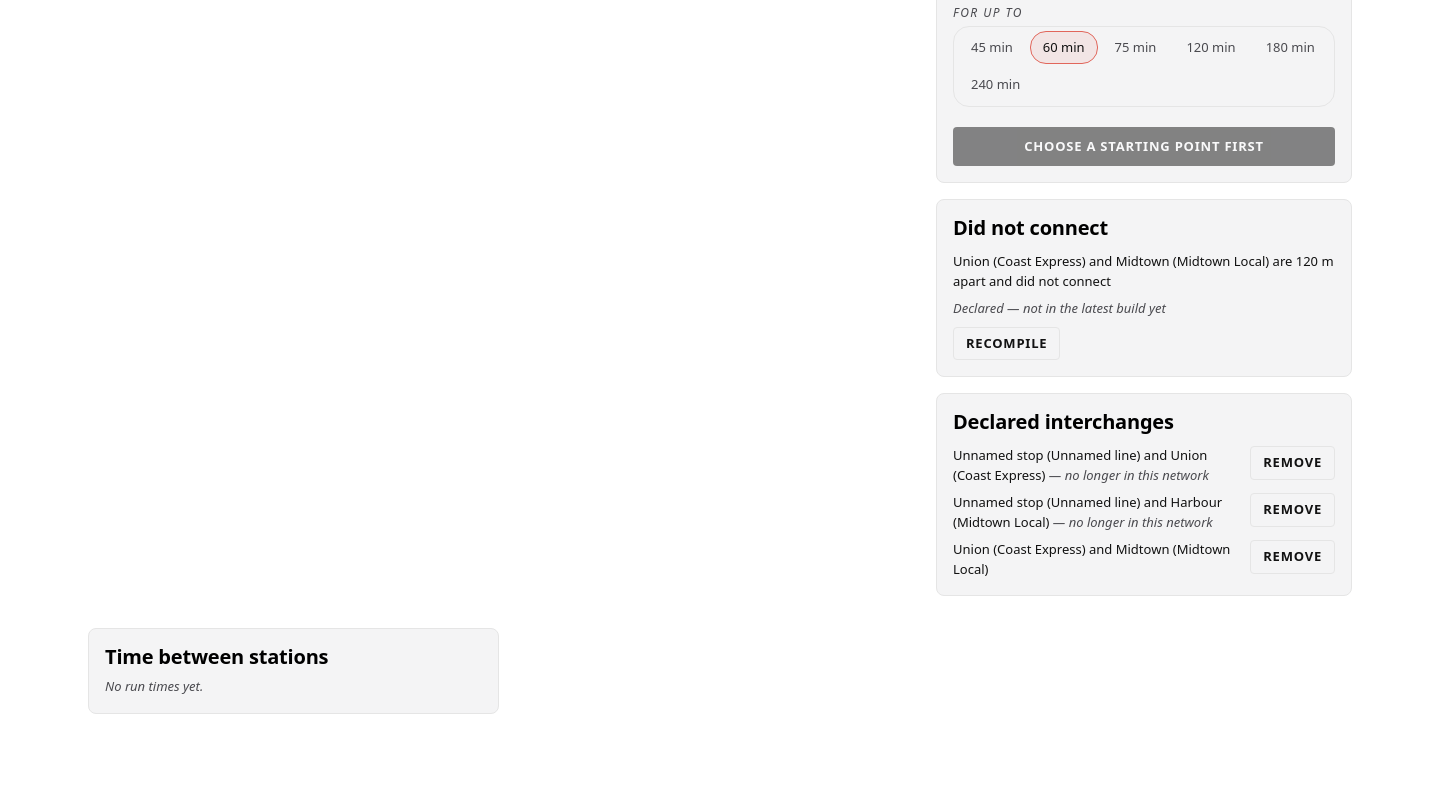
Test: AuthoredScenarioView joining near misses into interchanges › drops pairs naming a line no longer in the network, so Remove still saves
(page scrolled)
Check: the number of list items with test id "declared-interchange-row" is 3, box [953,446,1335,485]; [953,493,1335,532]; [953,540,1335,579]
What coordinates should you click on to do the following:
click the button with test id "remove-interchange"
I would click on:
 (1293, 463)
Its box is [1250,446,1335,480].
(page scrolled)
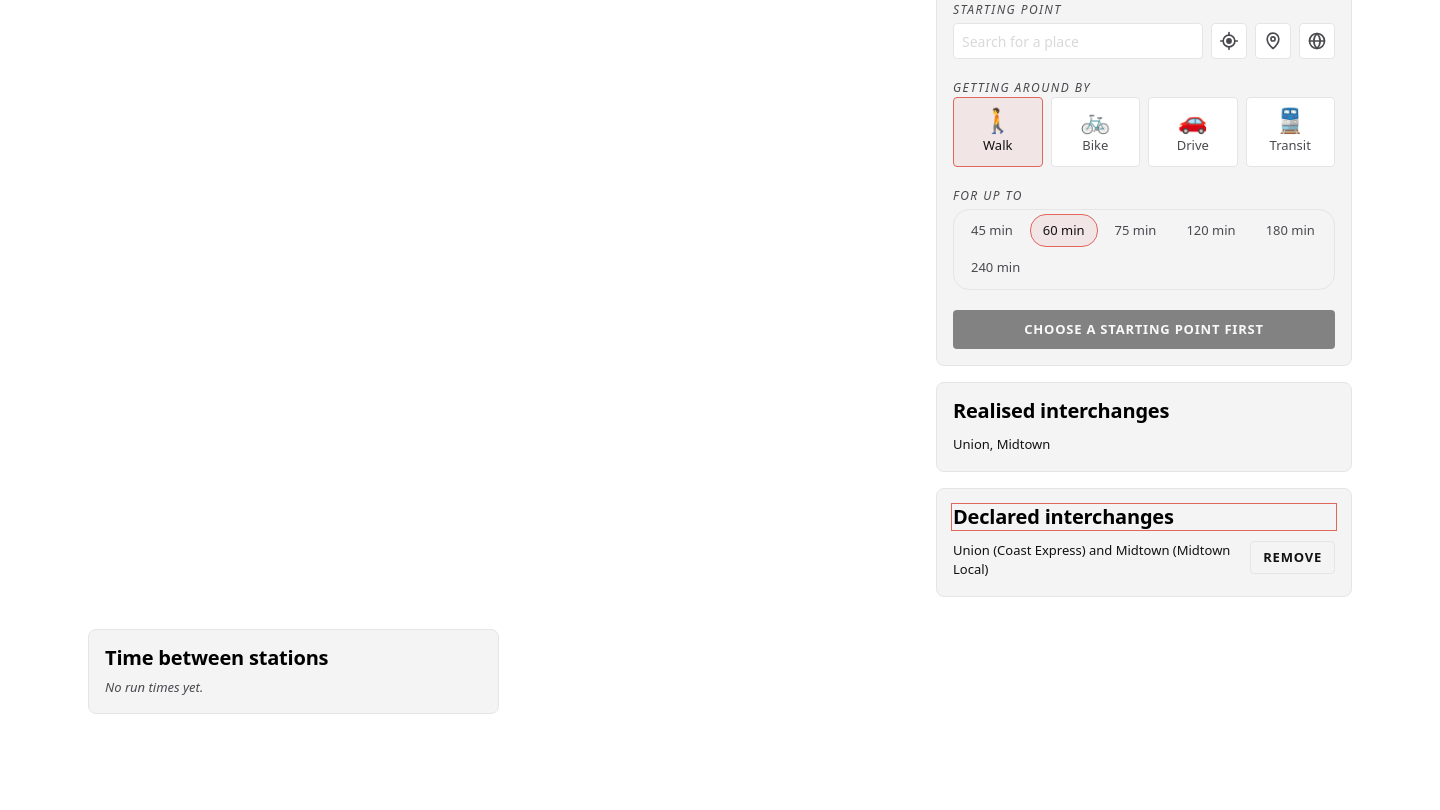
Check: the number of list items with test id "declared-interchange-row" is 1, box [953,541,1335,580]
